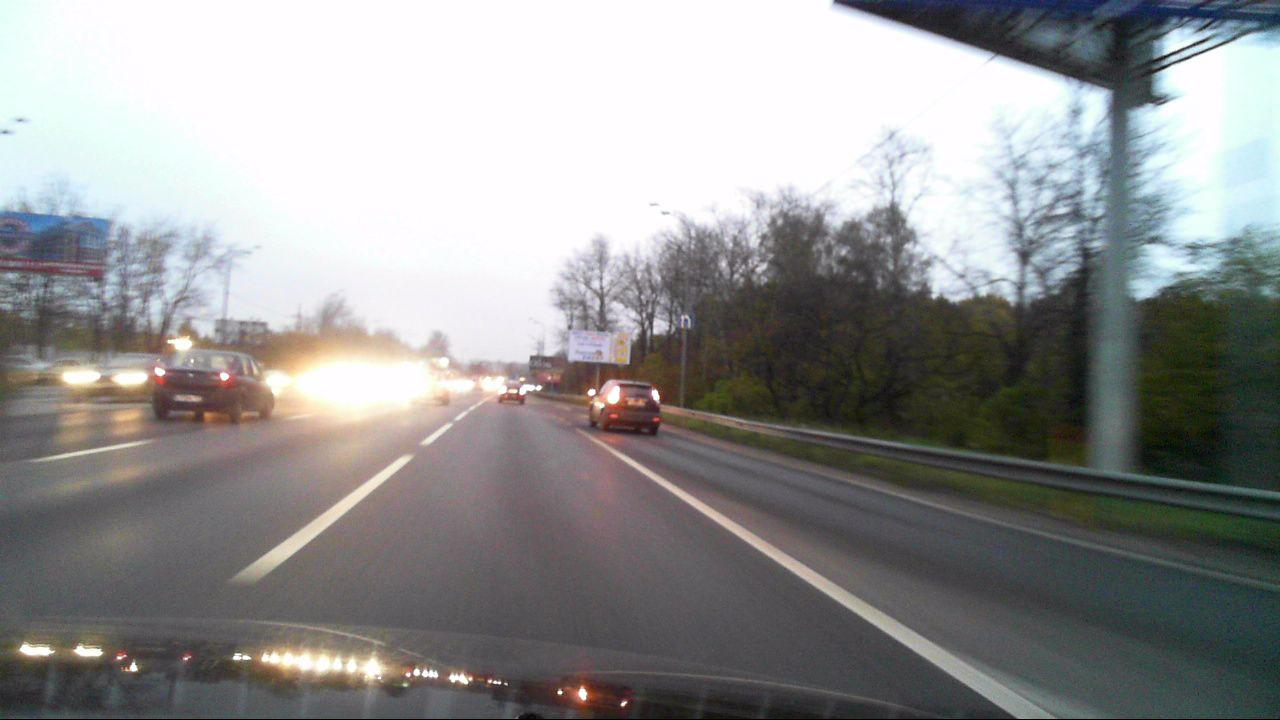5_15_5: (678, 312, 695, 329)
